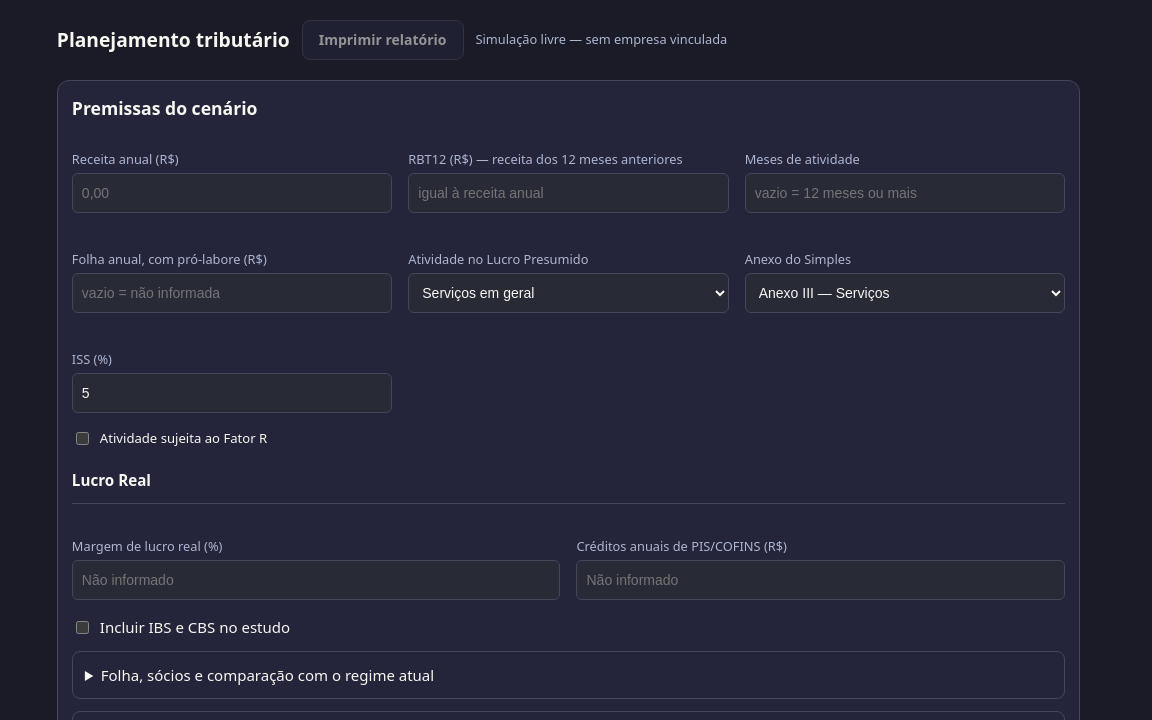
it: 2026 mostra zero para Simples sem campo de estimativa ou texto introdutório
Click the checkbox labelled "Incluir IBS e CBS no estudo" at coordinates (82, 627), box [76,621,89,634]
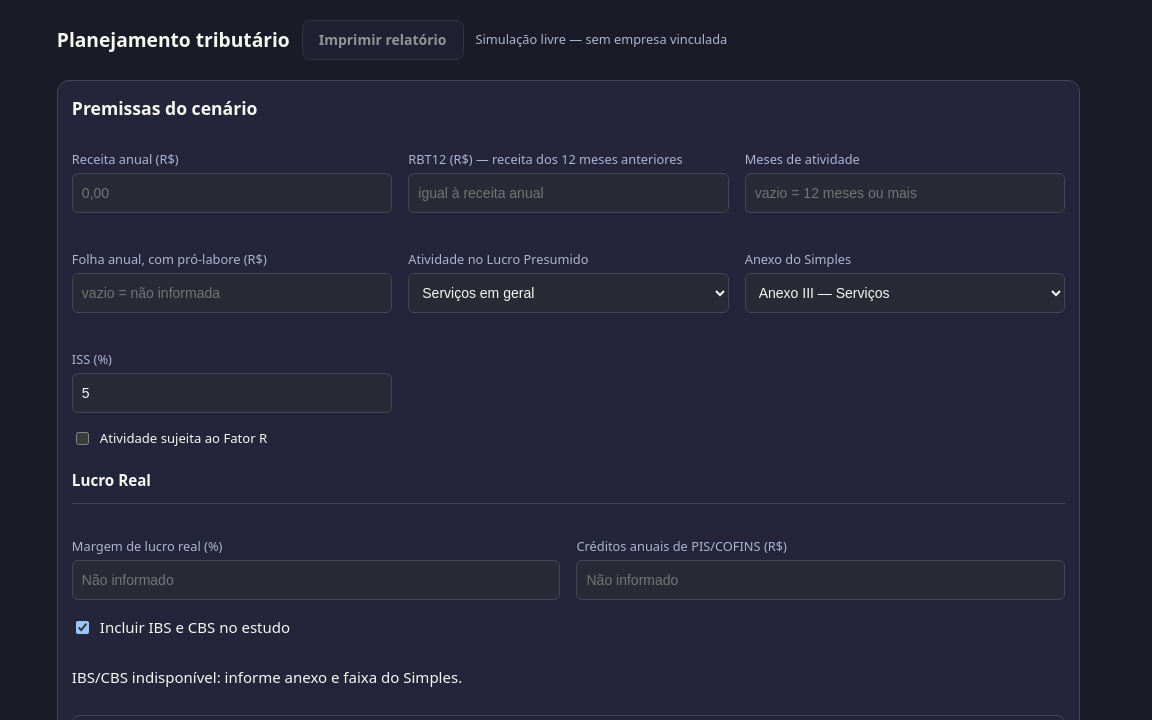
Type "10000000" into the field labelled "Receita anual (R$)" at coordinates (232, 193), box [72,173,392,213]
(page scrolled)
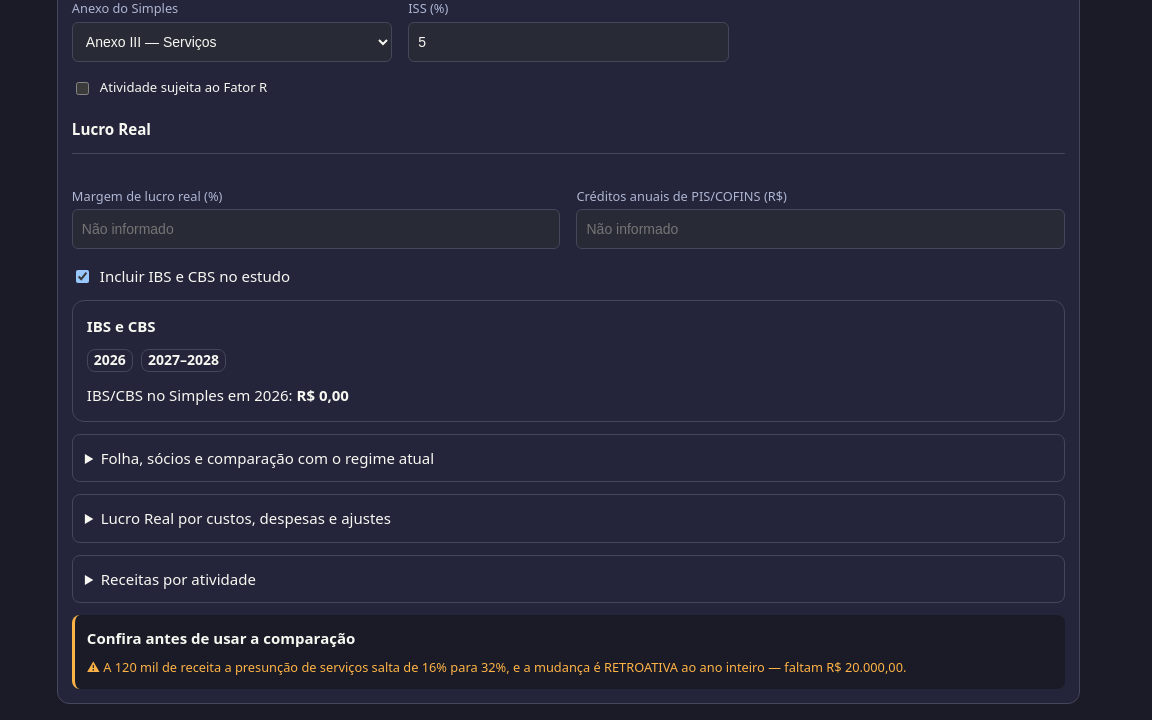
Expected: the element named "IBS e CBS no Simples Nacional" shows "IBS/CBS no Simples em 2026: R$ 0,00", [72,300,1065,422]
